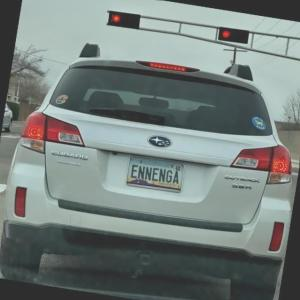Plate: (124, 156, 185, 192)
